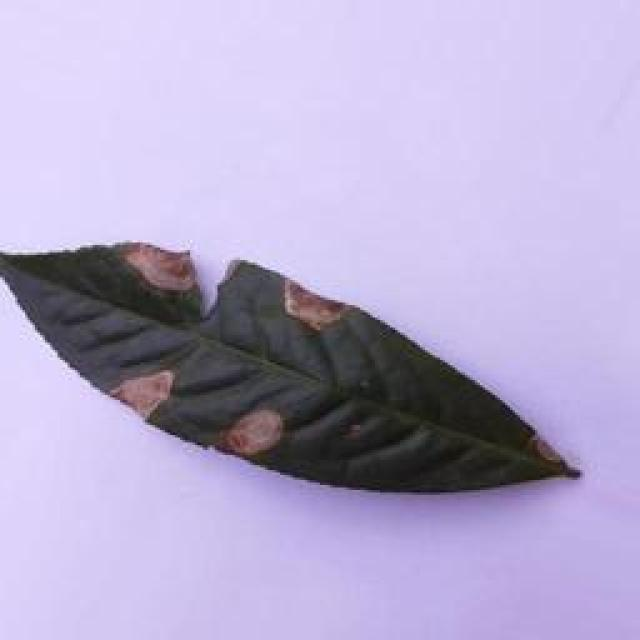Gray Blight: (0, 230, 588, 500)
